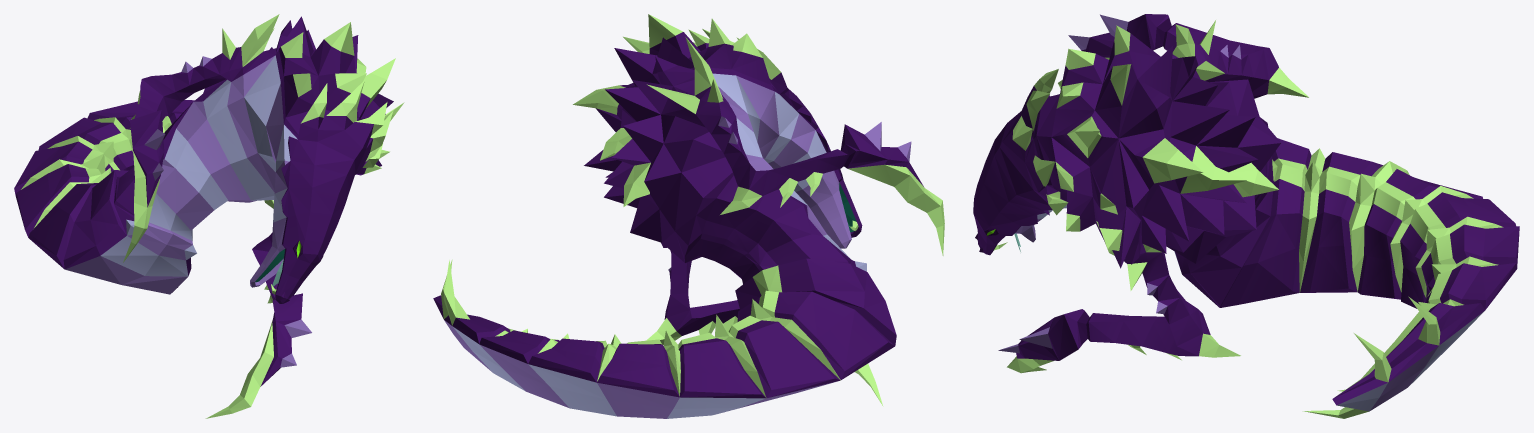
The model's file is Dead (16).obj.
3 renders of one model, left to right at view 1: azimuth 30°, elevation 25°; view 2: azimuth 150°, elevation 25°; view 3: azimuth 270°, elevation 25°, orthographic. The views are drawn at different scales.
Visible parts, largest first — view 1: Alien_Serpent; view 2: Alien_Serpent; view 3: Alien_Serpent.
Boxes of the visible parts, x1=… form: Alien_Serpent: x1=14, y1=14, x2=404, y2=418; Alien_Serpent: x1=433, y1=14, x2=944, y2=418; Alien_Serpent: x1=973, y1=14, x2=1519, y2=418.
Bounding box in the file's own units: 248 × 220 × 258.
Materials: 1 (1 with a texture image).
